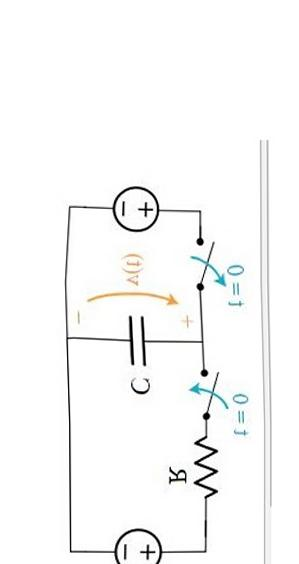Battery: (100, 181, 171, 244)
